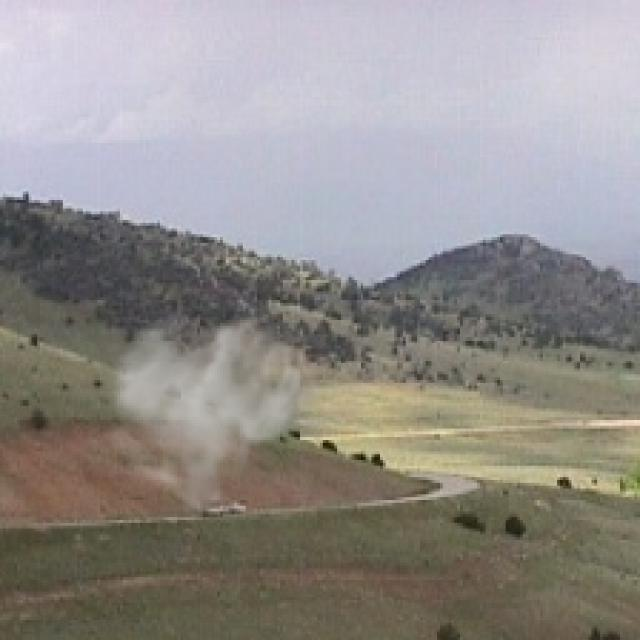Smoke: (100, 294, 326, 529)
